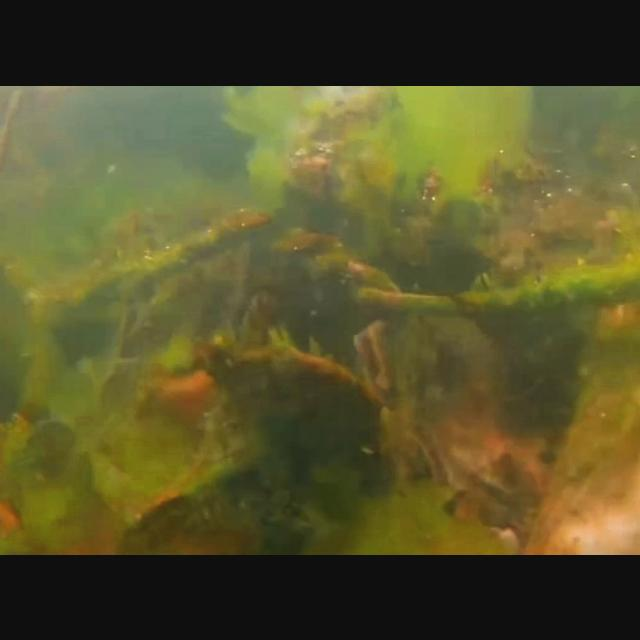Oyster-Closed: (212, 345, 394, 505)
Oyster-Open: (118, 464, 310, 554), (442, 436, 534, 524), (352, 312, 438, 403), (224, 279, 284, 353), (402, 414, 454, 496)
